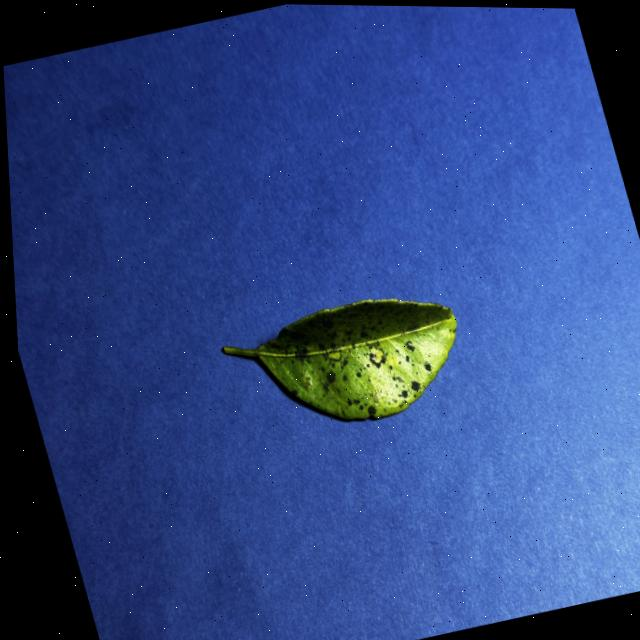sooty_mold: (222, 299, 455, 419)
